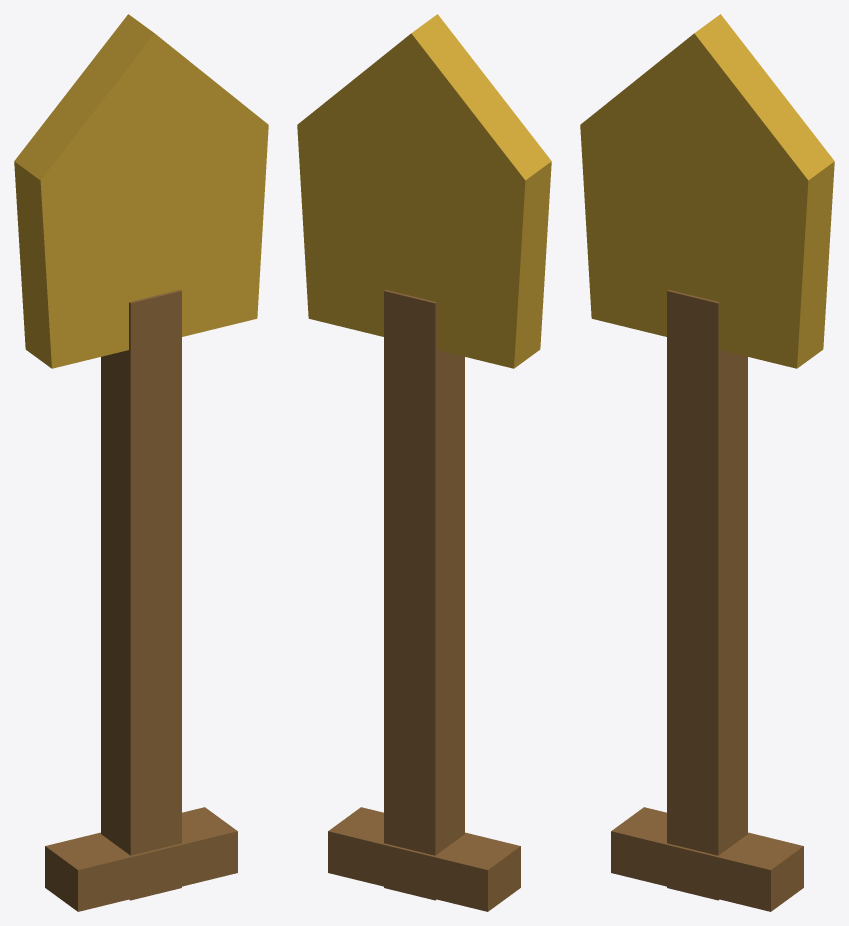
File: shovel_gold.fbx
3 views of the same model, side by side, from view 1: azimuth 30°, elevation 25°; view 2: azimuth 150°, elevation 25°; view 3: azimuth 330°, elevation 25° (orthographic).
Parts seen in each view (by area): view 1: shovel_gold; view 2: shovel_gold; view 3: shovel_gold.
Part boxes in pixels (left/top/right/bottom): shovel_gold: left=14, top=14, right=268, bottom=911; shovel_gold: left=297, top=14, right=551, bottom=911; shovel_gold: left=580, top=14, right=834, bottom=911.
Size of the model in its own units: 0.6 by 2.16 by 0.15.
